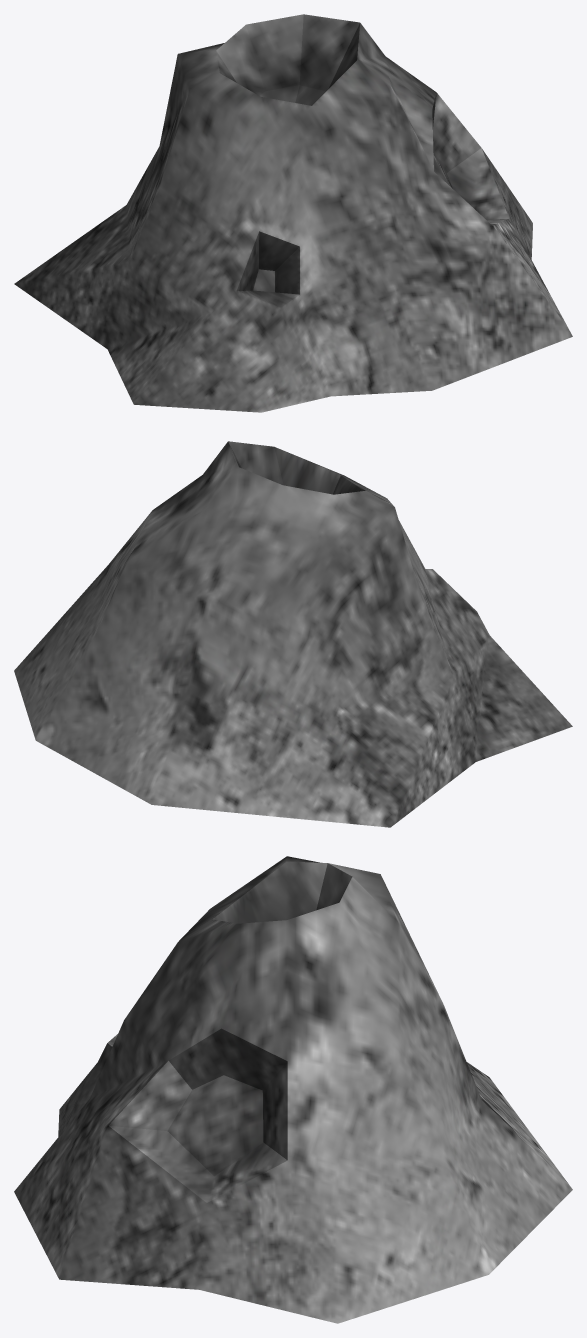
Rendered from Geyser_01.fbx.
3 renders of one model, top to bottom at view 1: azimuth 30°, elevation 25°; view 2: azimuth 150°, elevation 25°; view 3: azimuth 270°, elevation 25°, orthographic. The views are drawn at different scales.
Parts seen in each view (by area): view 1: Geyser_01; view 2: Geyser_01; view 3: Geyser_01.
Part boxes in pixels (<box>): Geyser_01: <box>14,14,572,412</box>; Geyser_01: <box>14,441,572,827</box>; Geyser_01: <box>14,856,572,1323</box>.
Bounding box in the file's own units: 50.03 × 26.33 × 44.63.
1 material, 1 textured.
